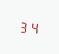four: (29, 20, 38, 34)
three: (19, 19, 28, 33)
